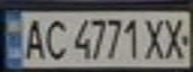1: (121, 16, 142, 60)
4: (69, 15, 93, 61)
7: (87, 16, 109, 60), (106, 16, 124, 60)
A: (18, 15, 48, 61)
C: (39, 15, 69, 61)
X: (160, 14, 190, 61), (142, 14, 169, 61)
